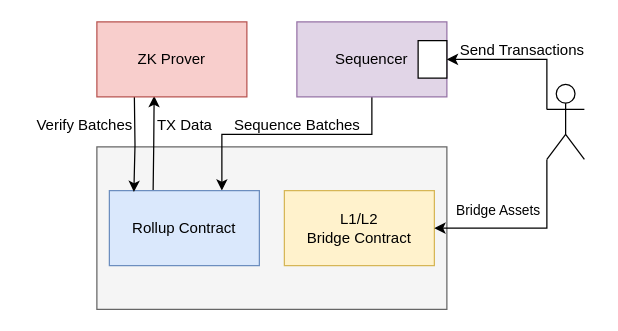
Some shapes in this 618 by 331 pixel diagram are drawn without their labels. The centre of each missing label's shape, as x and y in pixels:
"RPC" goes at point (432, 58).
"User" goes at point (565, 121).
